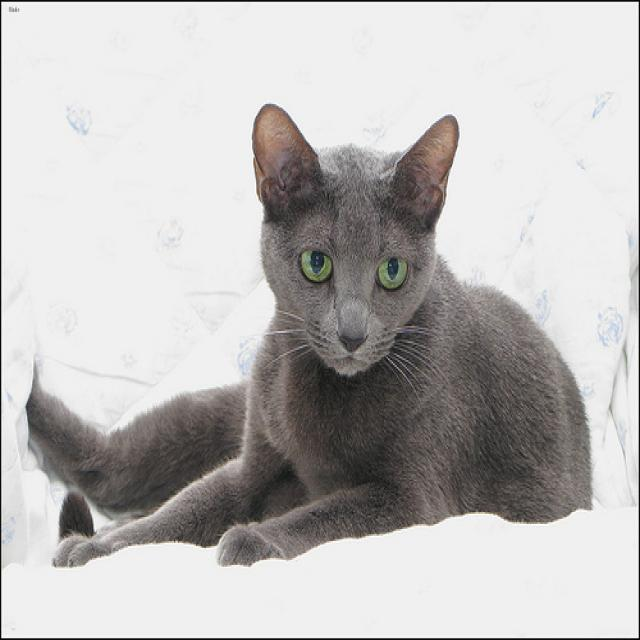Russian_Blue: (247, 96, 463, 383)
